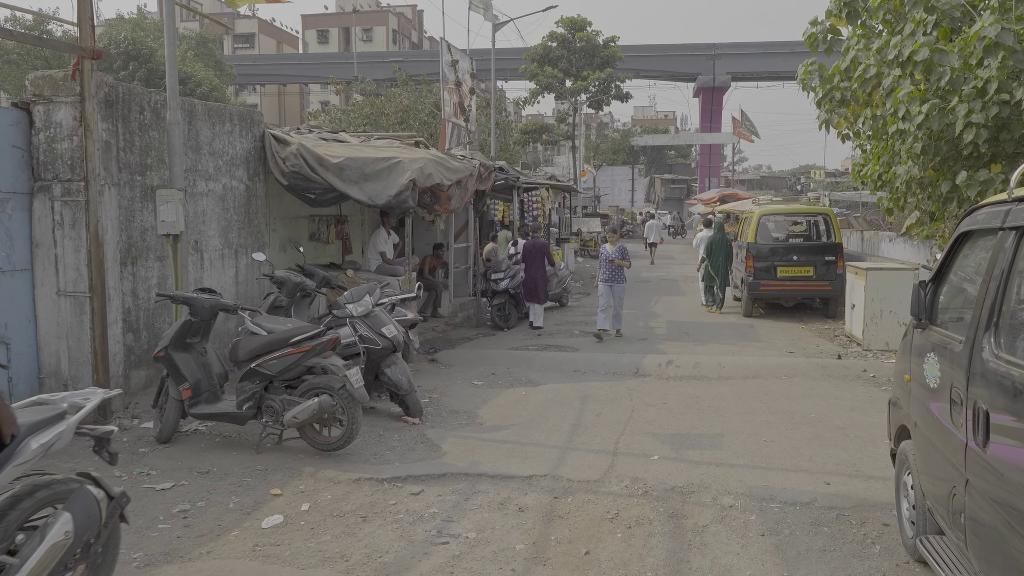garbage: (260, 510, 283, 532)
